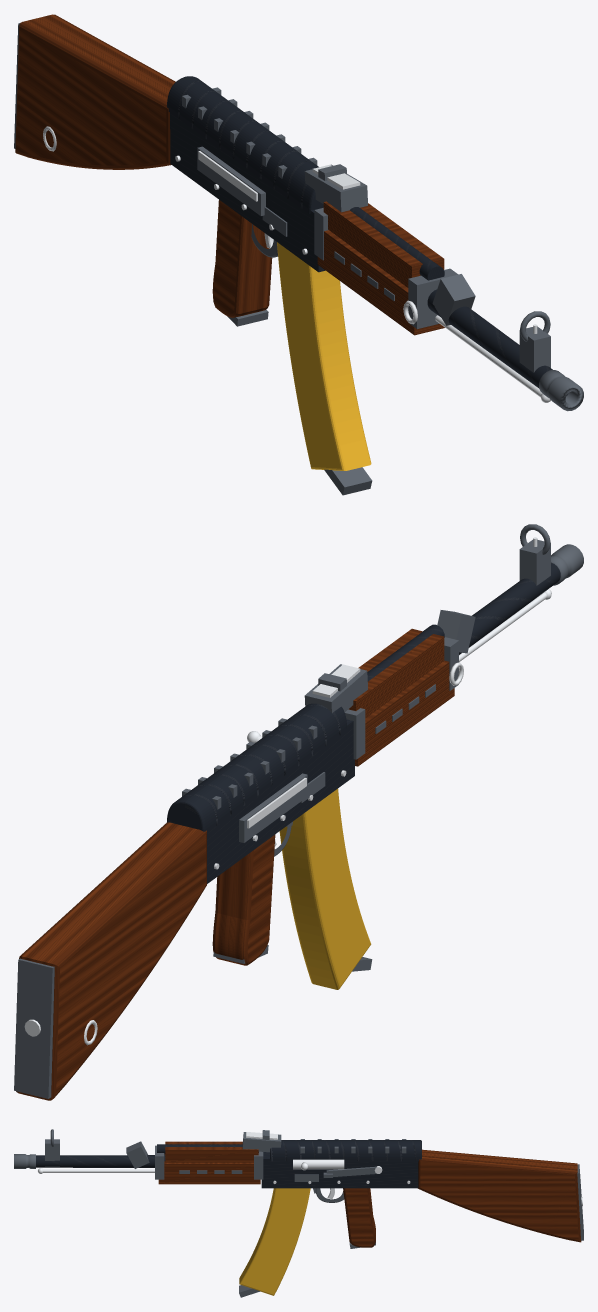
File: ak47_classic.glb
3 views of the same model, one above another, from view 1: azimuth 30°, elevation 25°; view 2: azimuth 150°, elevation 25°; view 3: azimuth 270°, elevation 25° (orthographic). The views are drawn at different scales.
Visible parts, largest first — view 1: AK47_Body_wood, AK47_Body_metalPrimary, AK47_Mag_accent, AK47_Body_metalDark, AK47_Body_metalChrome, AK47_Mag_metalDark; view 2: AK47_Body_wood, AK47_Body_metalPrimary, AK47_Body_metalDark, AK47_Mag_accent, AK47_Body_metalChrome; view 3: AK47_Body_wood, AK47_Body_metalPrimary, AK47_Mag_accent, AK47_Body_metalDark, AK47_Body_metalChrome, AK47_Bolt_metalChrome.
Part boxes in pixels (x1,y1,x2,y2): AK47_Body_wood: (15,14,444,335); AK47_Body_metalPrimary: (166,76,568,395); AK47_Mag_accent: (277,242,371,470); AK47_Body_metalDark: (14,23,583,411); AK47_Body_metalChrome: (43,126,550,402); AK47_Mag_metalDark: (324,467,372,495); AK47_Body_wood: (16,628,454,1100); AK47_Body_metalPrimary: (167,562,560,883); AK47_Body_metalDark: (14,524,583,1098); AK47_Mag_accent: (279,788,371,989); AK47_Body_metalChrome: (24,537,551,1045); AK47_Body_wood: (158,1141,581,1247); AK47_Body_metalPrimary: (36,1140,421,1188); AK47_Mag_accent: (239,1188,310,1295); AK47_Body_metalDark: (14,1129,583,1248); AK47_Body_metalChrome: (38,1132,582,1206); AK47_Bolt_metalChrome: (293,1159,344,1170).
Size of the model in its own units: 0.077 by 0.3112 by 0.9788.
7 materials, 3 textured.
